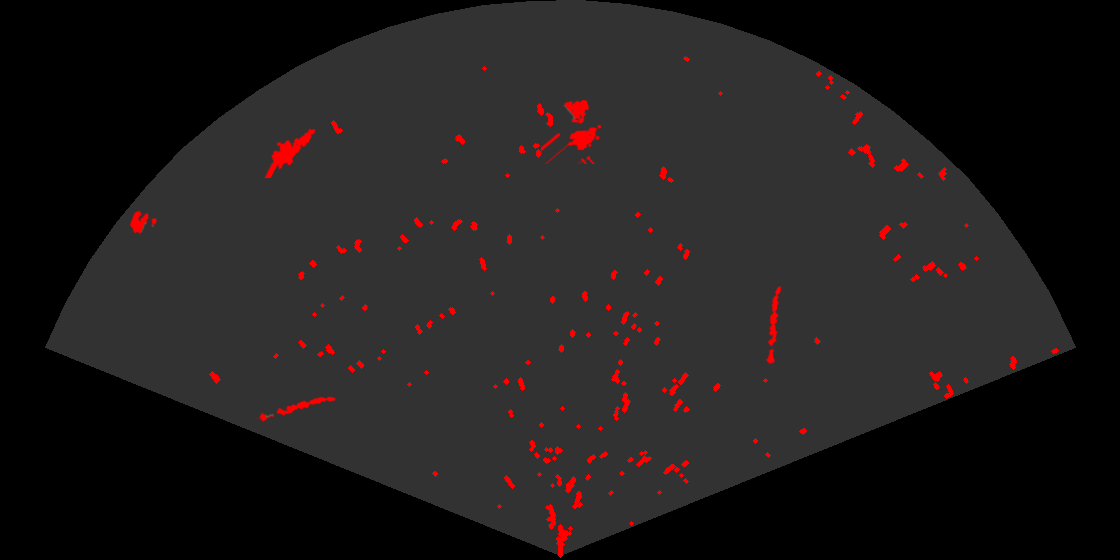ball: (128, 209, 158, 236)
cage: (541, 98, 603, 164)
chain: (254, 395, 338, 423), (764, 284, 783, 364)
frogman: (263, 127, 317, 178)
